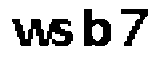7: (119, 6, 151, 47)
b: (80, 5, 113, 47)
s: (52, 18, 74, 48)
w: (12, 14, 53, 48)
